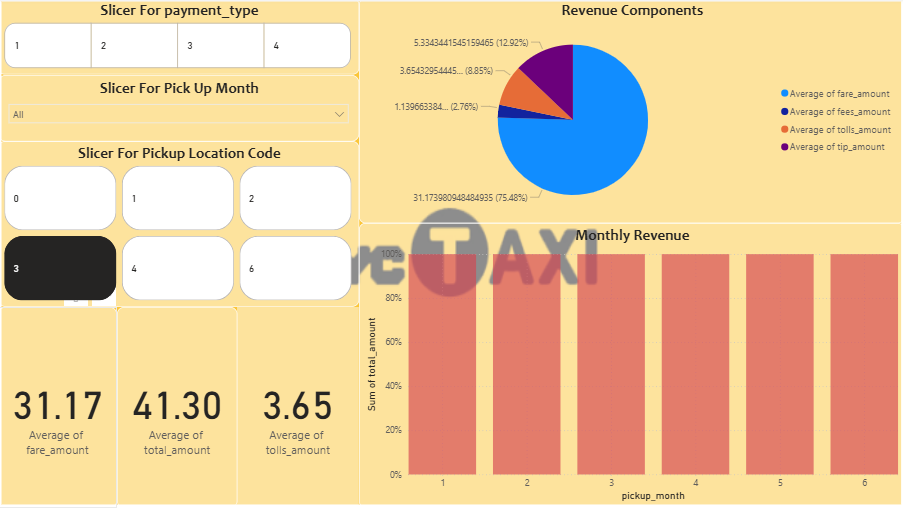

The dashboard page shown, as its layout file describes it:
{"tool":"powerbi","page":{"name":"Revenue Analysis","canvas":[1280,720],"ordinal":1},"visuals":[{"type":"image","box":[0,0,1280,720],"z":0},{"type":"hundredPercentStackedColumnChart","title":"Monthly Revenue","fields":{"Category":["nyc_taxis.pickup_month"],"Y":["Sum(nyc_taxis.total_amount)"]},"box":[510,318,770,402],"z":1000},{"type":"pieChart","title":"Revenue Components","fields":{"Y":["Avg(nyc_taxis.fare_amount)","Avg(nyc_taxis.fees_amount)","Avg(nyc_taxis.tolls_amount)","Avg(nyc_taxis.tip_amount)"]},"box":[510,0,770,318],"z":2000},{"type":"card","fields":{"Values":["Avg(nyc_taxis.fare_amount)"]},"box":[0,436,168,284],"z":3000},{"type":"advancedSlicerVisual","title":"Slicer For payment_type","fields":{"Values":["nyc_taxis.payment_type"]},"box":[0,0,510,108],"z":4000},{"type":"slicer","title":"Slicer For Pick Up Month","fields":{"Values":["nyc_taxis.pickup_month"]},"box":[0,108,510,94],"z":5000},{"type":"advancedSlicerVisual","title":"Slicer For Pickup Location Code","fields":{"Values":["nyc_taxis.pickup_location_code"]},"box":[0,202,510,234],"z":6000},{"type":"card","fields":{"Values":["Avg(nyc_taxis.total_amount)"]},"box":[168,436,170,284],"z":7000},{"type":"card","fields":{"Values":["Avg(nyc_taxis.tolls_amount)"]},"box":[338,436,172,284],"z":8000}]}

Visuals, with their boxes in screenshot pixels (x1, y1, x2, y2), scaled from the page's 1280x720 canvas onto the 903x508 screenshot:
image: bbox=(0, 0, 902, 507)
"Monthly Revenue" hundredPercentStackedColumnChart: bbox=(360, 224, 902, 507)
"Revenue Components" pieChart: bbox=(360, 0, 902, 224)
card - Avg(nyc_taxis.fare_amount): bbox=(0, 308, 119, 507)
"Slicer For payment_type" advancedSlicerVisual: bbox=(0, 0, 360, 76)
"Slicer For Pick Up Month" slicer: bbox=(0, 76, 360, 143)
"Slicer For Pickup Location Code" advancedSlicerVisual: bbox=(0, 143, 360, 308)
card - Avg(nyc_taxis.total_amount): bbox=(119, 308, 238, 507)
card - Avg(nyc_taxis.tolls_amount): bbox=(238, 308, 360, 507)
